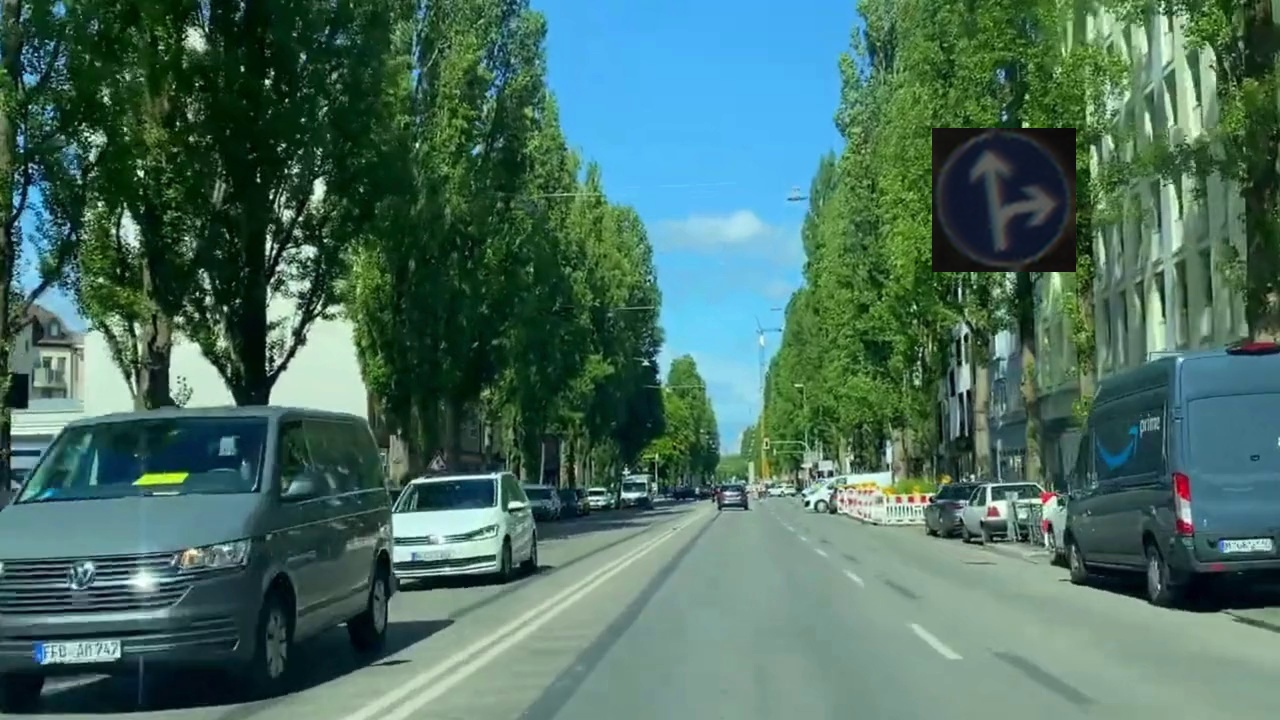Straight/right: (932, 128, 1076, 272)
